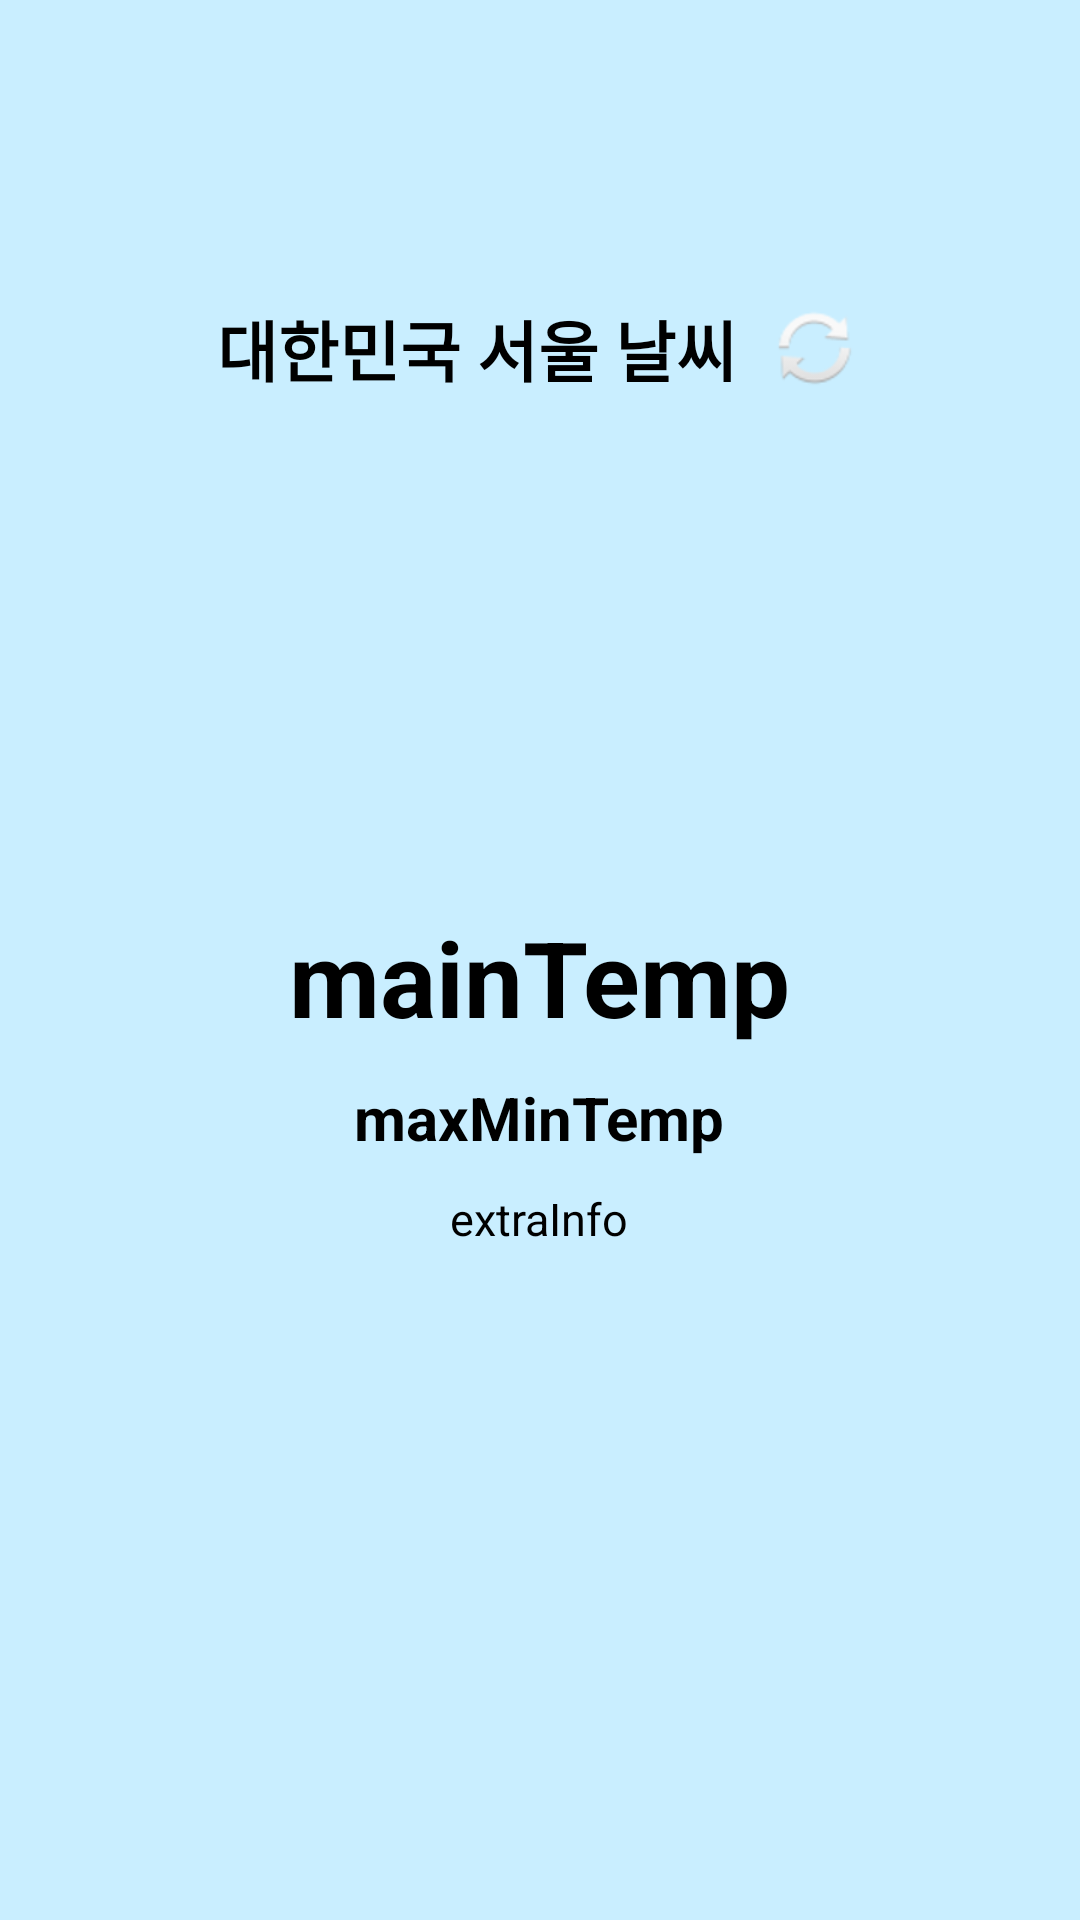

Icons on this 1080 × 1920 Android screen, each with the point to tap as [x,y]:
popup sync: [814,348]
